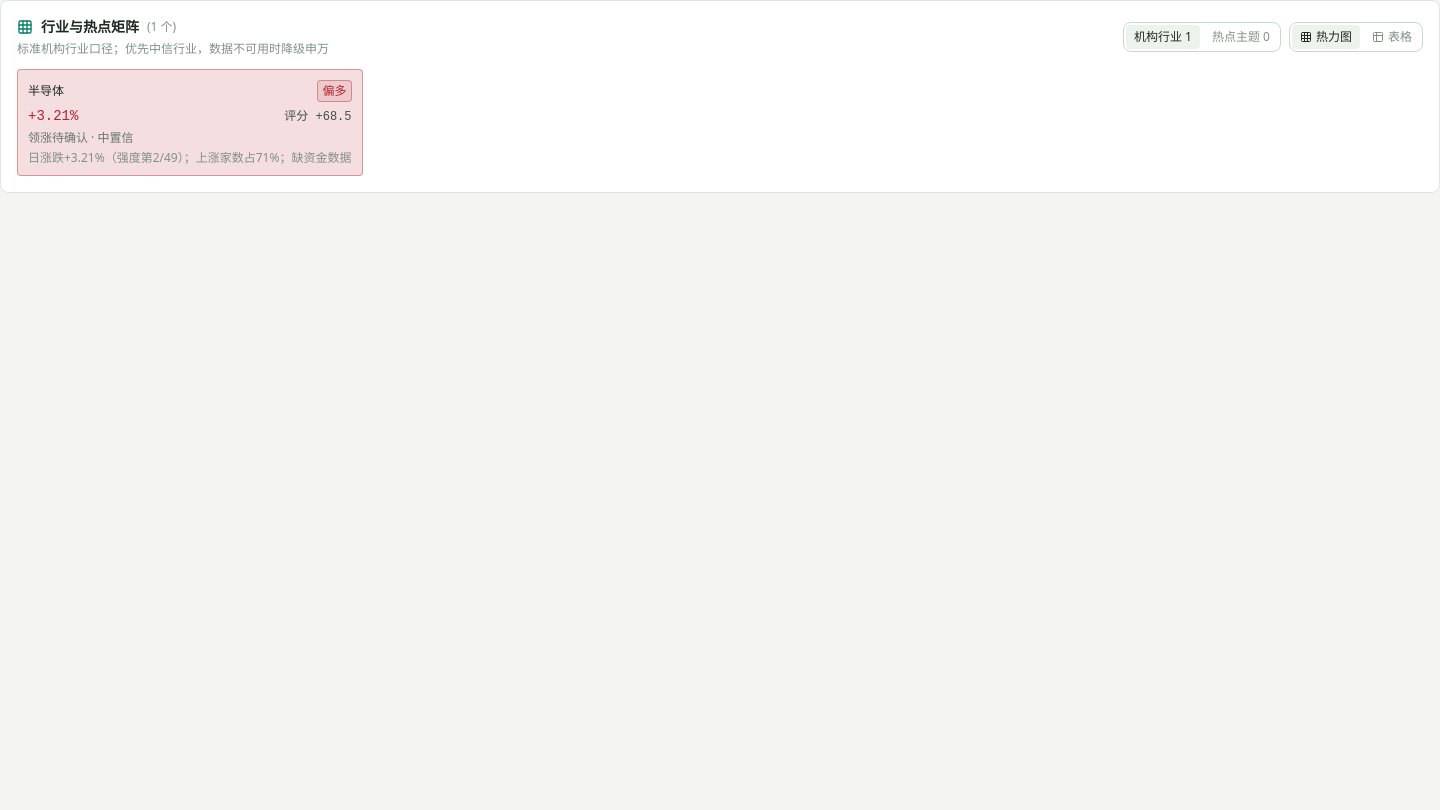
Test: IndustryMatrix multi-factor stance › shows score, confidence and differentiated evidence
The image size is (1440, 810).
Check: the text "评分 +68.5" is shown, box [284,109,352,125]
Check: the text "领涨待确认 · 中置信" is shown, box [28,129,134,146]
Click the button "半导体": [46, 90] box [17,69,362,176]
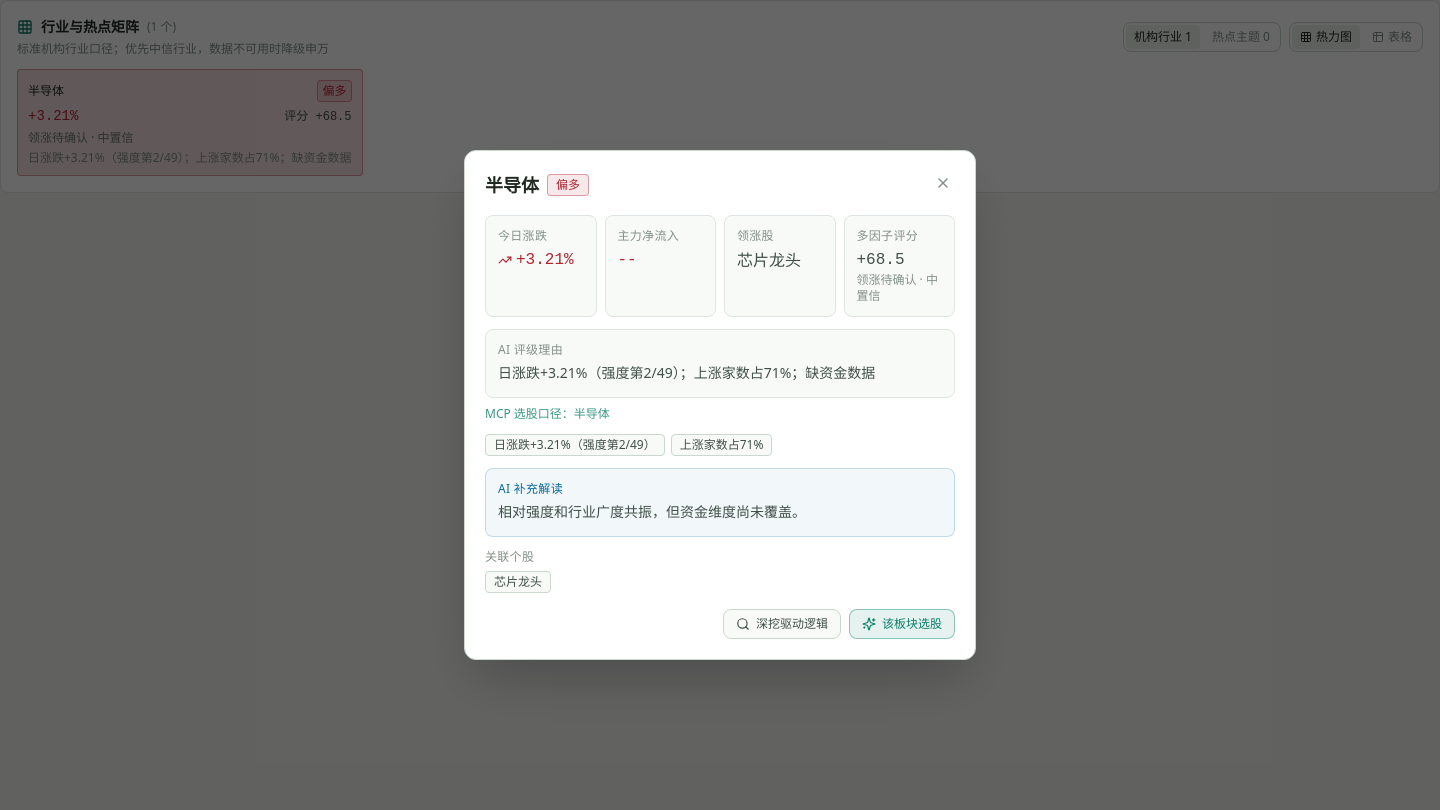
Check: the dialog named "半导体 详情" is shown, box [464,150,976,660]
Check: the text "日涨跌+3.21%（强度第2/49）" is shown, box [485,434,665,456]
Check: the text "相对强度和行业广度共振，但资金维度尚未覆盖。" is shown, box [498,502,806,521]
